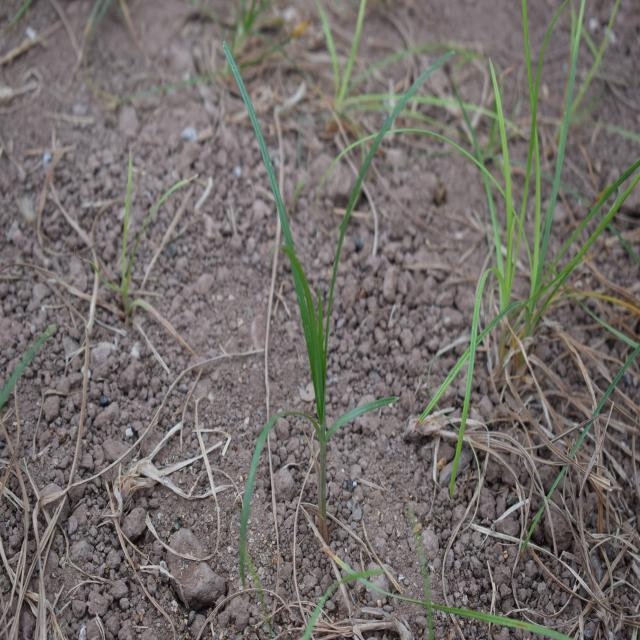sedge: (191, 52, 441, 573)
